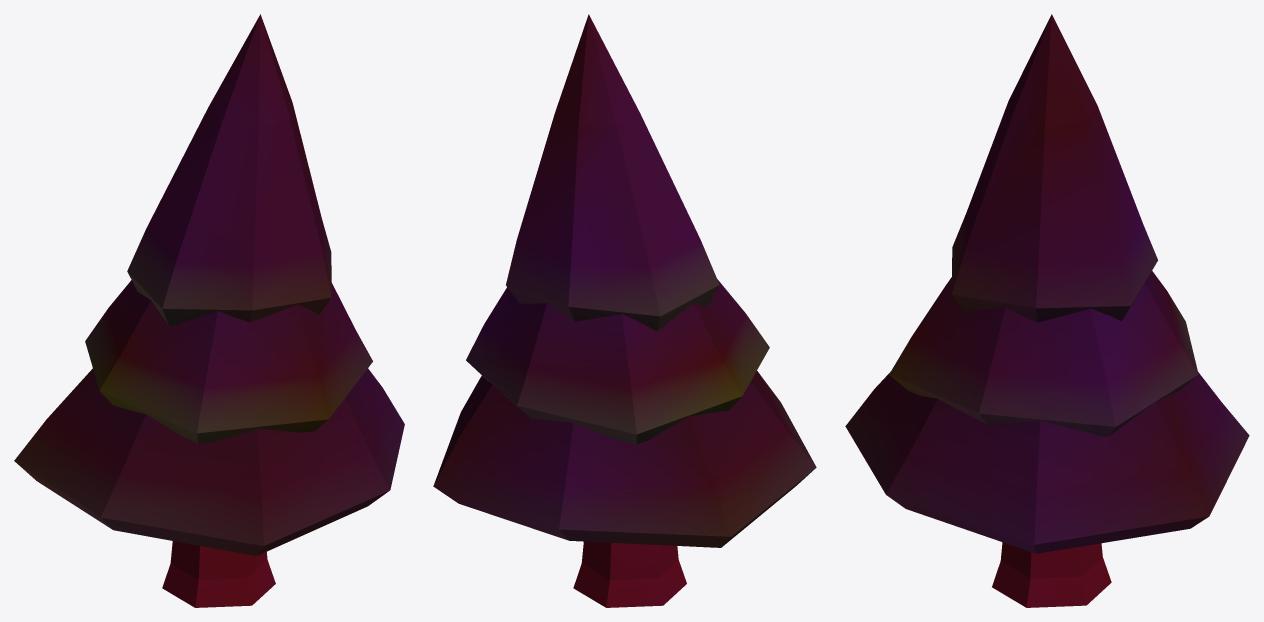
The model's file is Tree_Pine_Variant_02.fbx.
3 views of the same model, side by side, from view 1: azimuth 30°, elevation 25°; view 2: azimuth 150°, elevation 25°; view 3: azimuth 270°, elevation 25° (orthographic). The views are drawn at different scales.
Parts seen in each view (by area): view 1: Tree_Pine_Variant_02; view 2: Tree_Pine_Variant_02; view 3: Tree_Pine_Variant_02.
Part boxes in pixels (box(x1,y1,x2,y2)): Tree_Pine_Variant_02: box(14, 14, 404, 607); Tree_Pine_Variant_02: box(433, 14, 816, 607); Tree_Pine_Variant_02: box(845, 14, 1249, 607).
Size of the model in its own units: 2.68 by 4.35 by 2.69.
